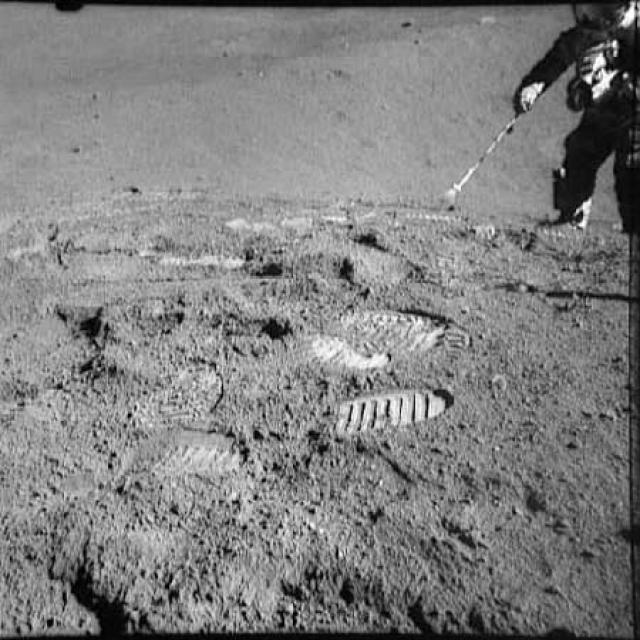artifact: (431, 3, 639, 236)
